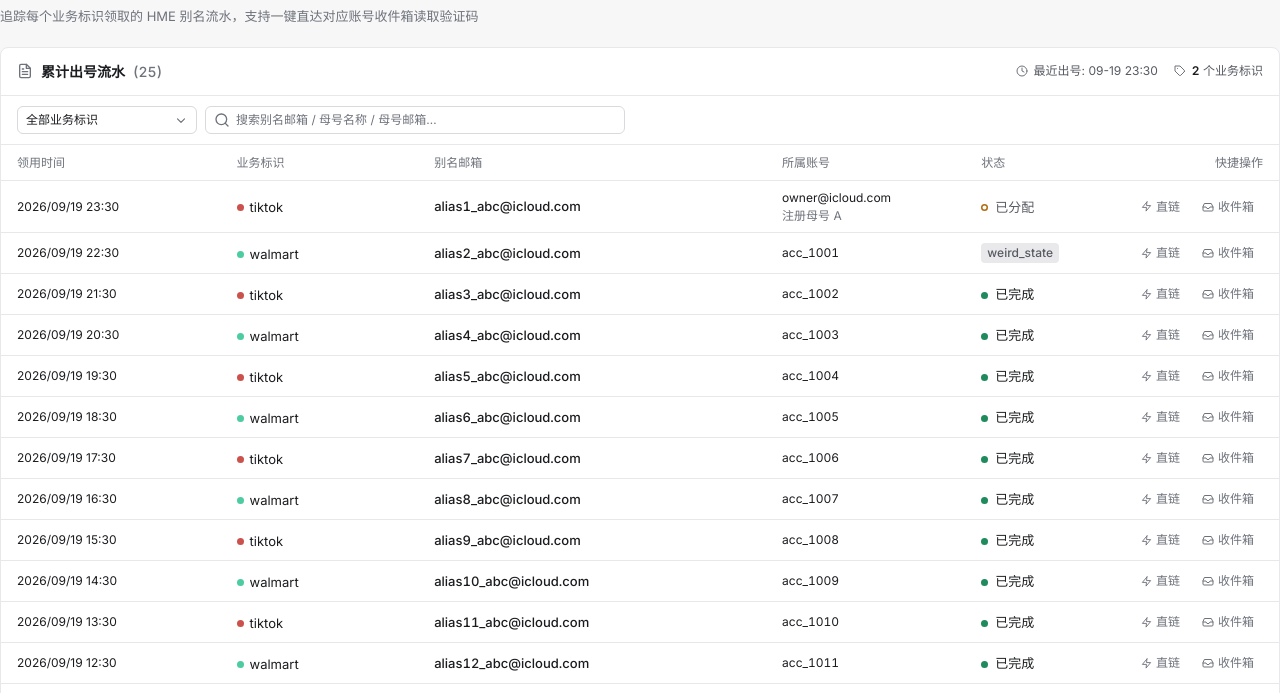
Test: UsedAliasesPage › 搜索走服务端检索，分页翻页后展示第二页数据
Expected: the text "alias1_abc@icloud.com" is shown, x1=434 y1=197 x2=581 y2=216
Type "alias2" into the field named "搜索别名邮箱、母号名称、母号邮箱或账号 ID". click: (415, 120)
box: x1=205 y1=106 x2=625 y2=134
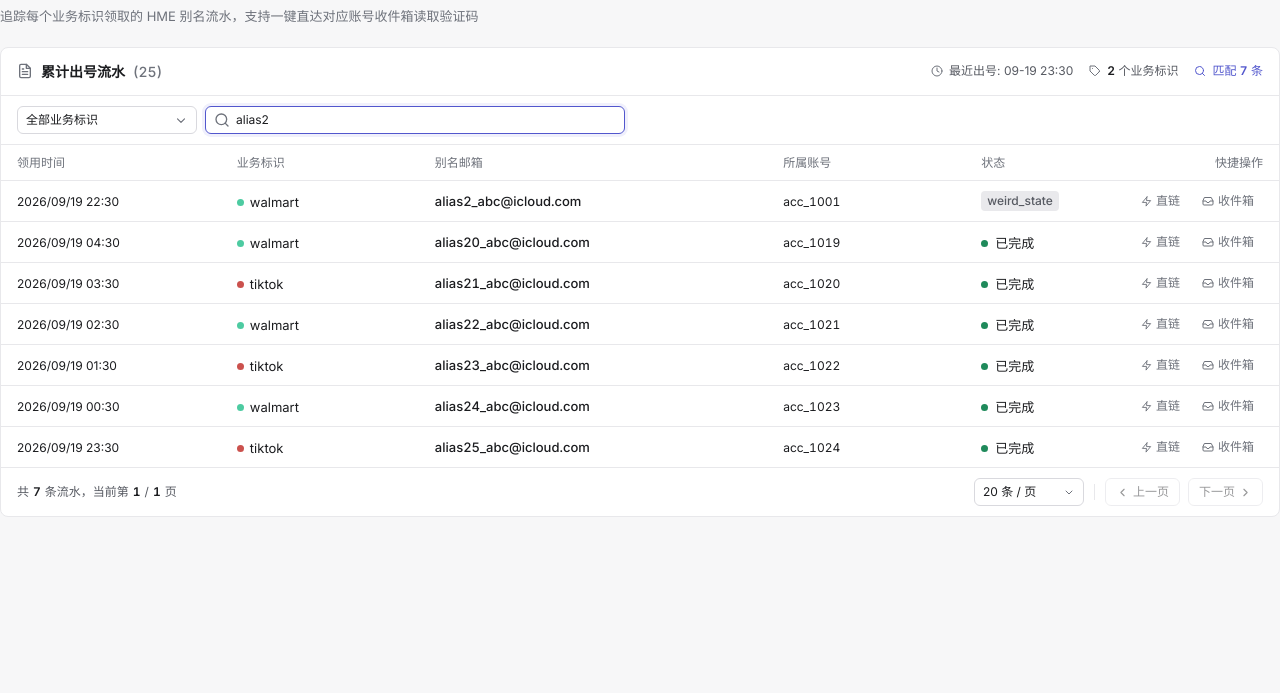
Expected: the text "alias25_abc@icloud.com" is shown, x1=435 y1=438 x2=590 y2=457
Expected: the button "alias1_abc@icloud.com" is gone
// 清空搜索恢复 25 条 → 第 1 页 20 条 → 下一页看第 2 页
Clear the field named "搜索别名邮箱、母号名称、母号邮箱或账号 ID". click: (415, 120)
box: x1=205 y1=106 x2=625 y2=134
(page scrolled)
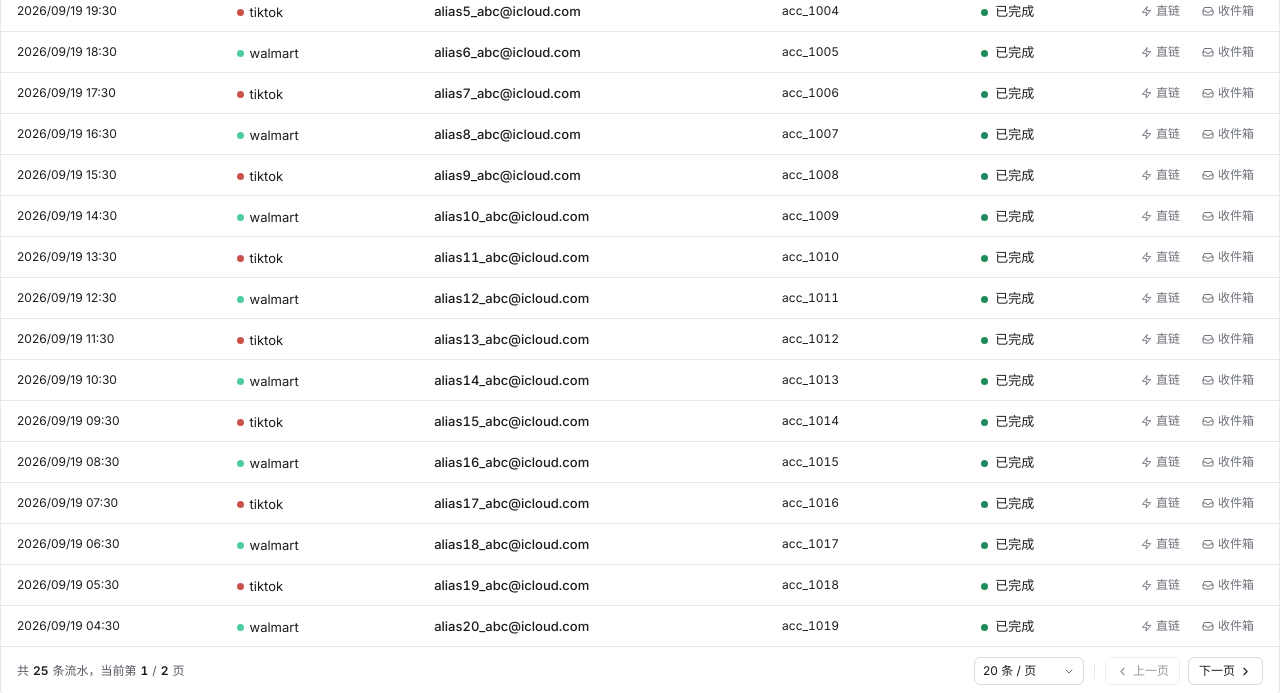
Click the button "下一页". click: (1226, 671)
box: x1=1188 y1=657 x2=1263 y2=685
(page scrolled)
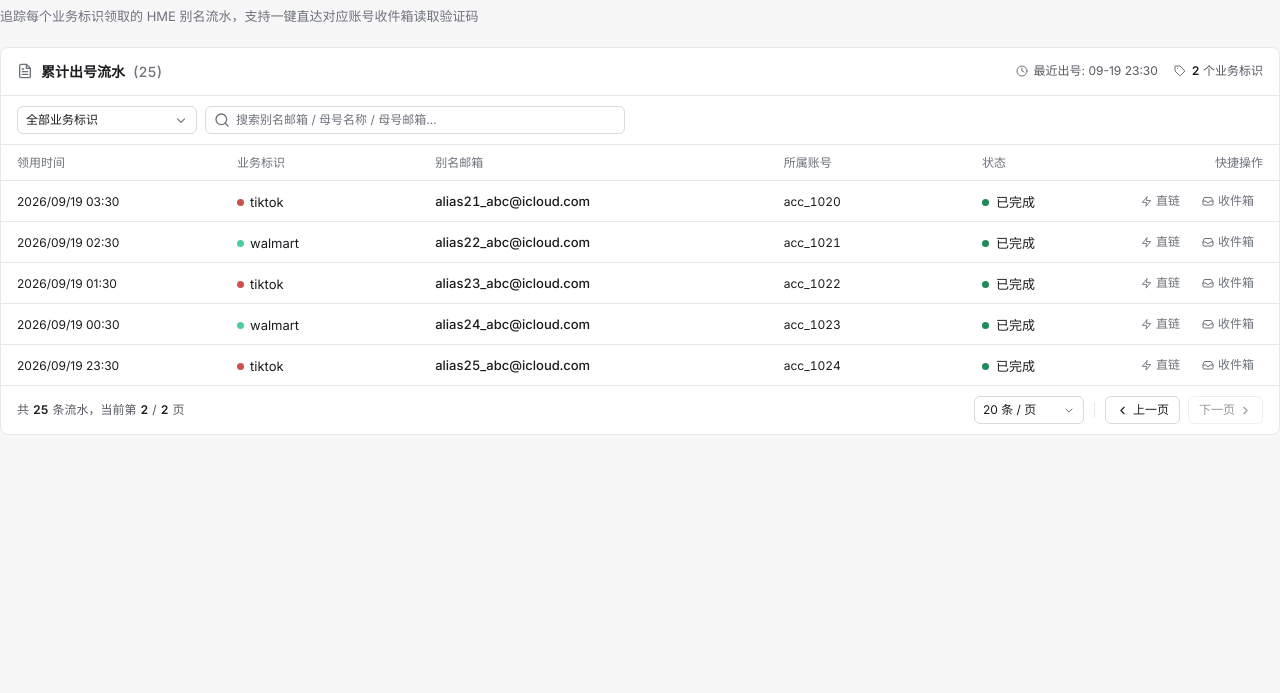
Expected: the text "alias25_abc@icloud.com" is shown, x1=435 y1=356 x2=590 y2=375
Expected: the button "alias5_abc@icloud.com" is gone
